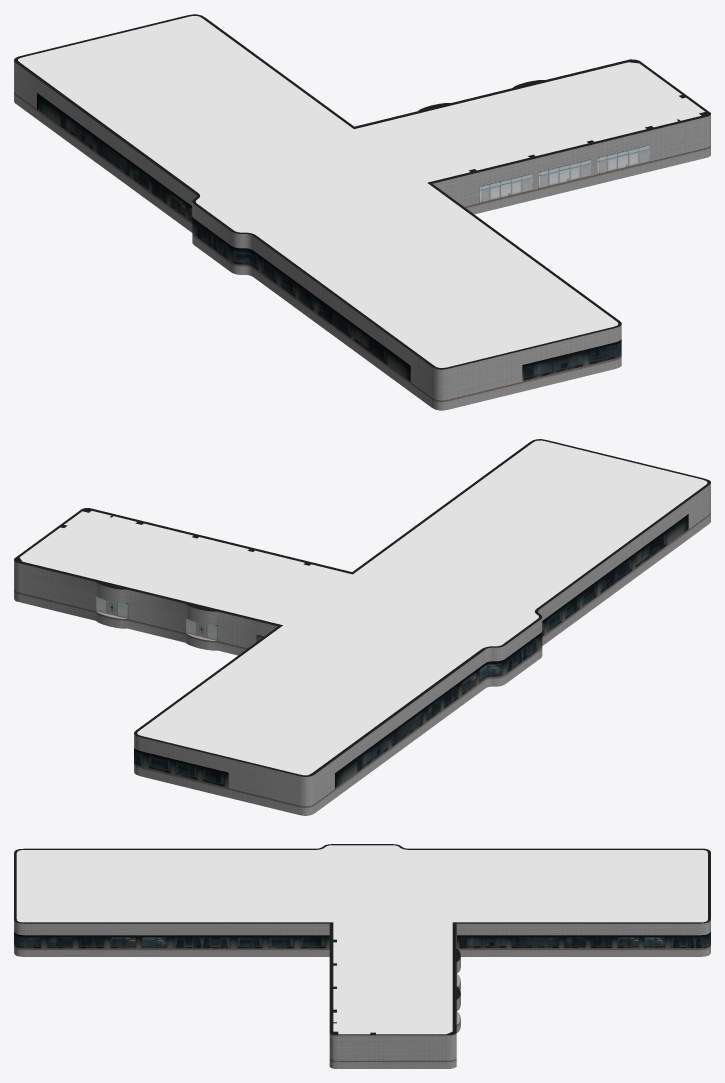
3 renders of one model, top to bottom at view 1: azimuth 30°, elevation 25°; view 2: azimuth 150°, elevation 25°; view 3: azimuth 270°, elevation 25°, orthographic. The views are drawn at different scales.
Visible parts, largest first — view 1: M_SUNGSIM0001F07F07_ISCL_0000001, M_SUNGSIM0001F07F07_ISWL_0000002, M_SUNGSIM0001F07F07_ISWD_0000002, M_SUNGSIM0001F07F07_ISWD_0000006, M_SUNGSIM0001F07F07_ISWD_0000008, M_SUNGSIM0001F07F07_ISWD_0000005, M_SUNGSIM0001F07F07_ISWD_0000007; view 2: M_SUNGSIM0001F07F07_ISCL_0000001, M_SUNGSIM0001F07F07_ISWL_0000002, M_SUNGSIM0001F07F07_ISWD_0000002, M_SUNGSIM0001F07F07_ISWD_0000006; view 3: M_SUNGSIM0001F07F07_ISCL_0000001, M_SUNGSIM0001F07F07_ISWL_0000002, M_SUNGSIM0001F07F07_ISWD_0000006.
Part boxes in pixels (x1,y1,x2,y2): M_SUNGSIM0001F07F07_ISCL_0000001: (18,16,704,367); M_SUNGSIM0001F07F07_ISWL_0000002: (14,14,710,410); M_SUNGSIM0001F07F07_ISWD_0000002: (37,93,410,381); M_SUNGSIM0001F07F07_ISWD_0000006: (522,339,621,381); M_SUNGSIM0001F07F07_ISWD_0000008: (479,174,532,202); M_SUNGSIM0001F07F07_ISWD_0000005: (597,145,649,174); M_SUNGSIM0001F07F07_ISWD_0000007: (538,159,590,188); M_SUNGSIM0001F07F07_ISCL_0000001: (19,440,707,775); M_SUNGSIM0001F07F07_ISWL_0000002: (14,439,710,815); M_SUNGSIM0001F07F07_ISWD_0000002: (335,514,688,788); M_SUNGSIM0001F07F07_ISWD_0000006: (134,747,228,787); M_SUNGSIM0001F07F07_ISCL_0000001: (16,845,707,1034); M_SUNGSIM0001F07F07_ISWL_0000002: (14,844,710,1068); M_SUNGSIM0001F07F07_ISWD_0000006: (14,931,710,948).
Size of the model in its own units: 49.14 by 4 by 75.64.
Materials: 7 (7 with a texture image).
